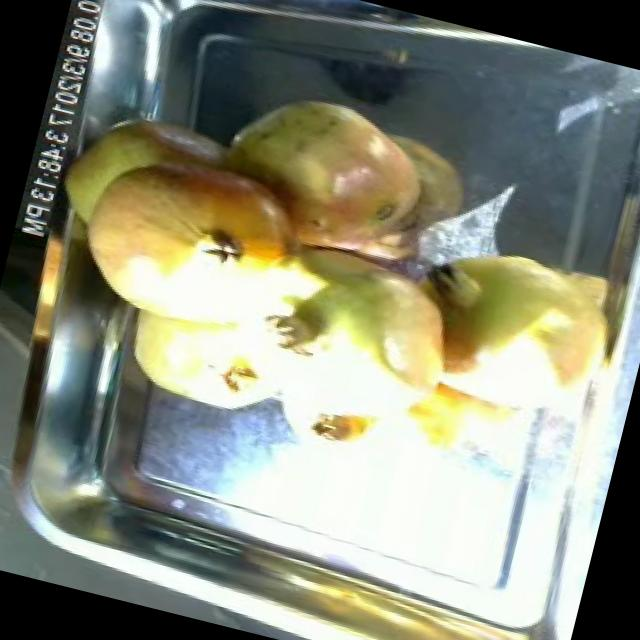fruit: (236, 230, 498, 496), (50, 122, 325, 363), (197, 64, 457, 284), (107, 282, 306, 432)
